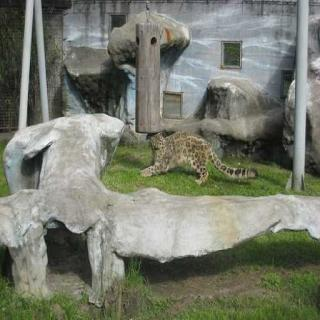Leopard: (142, 106, 253, 198)
